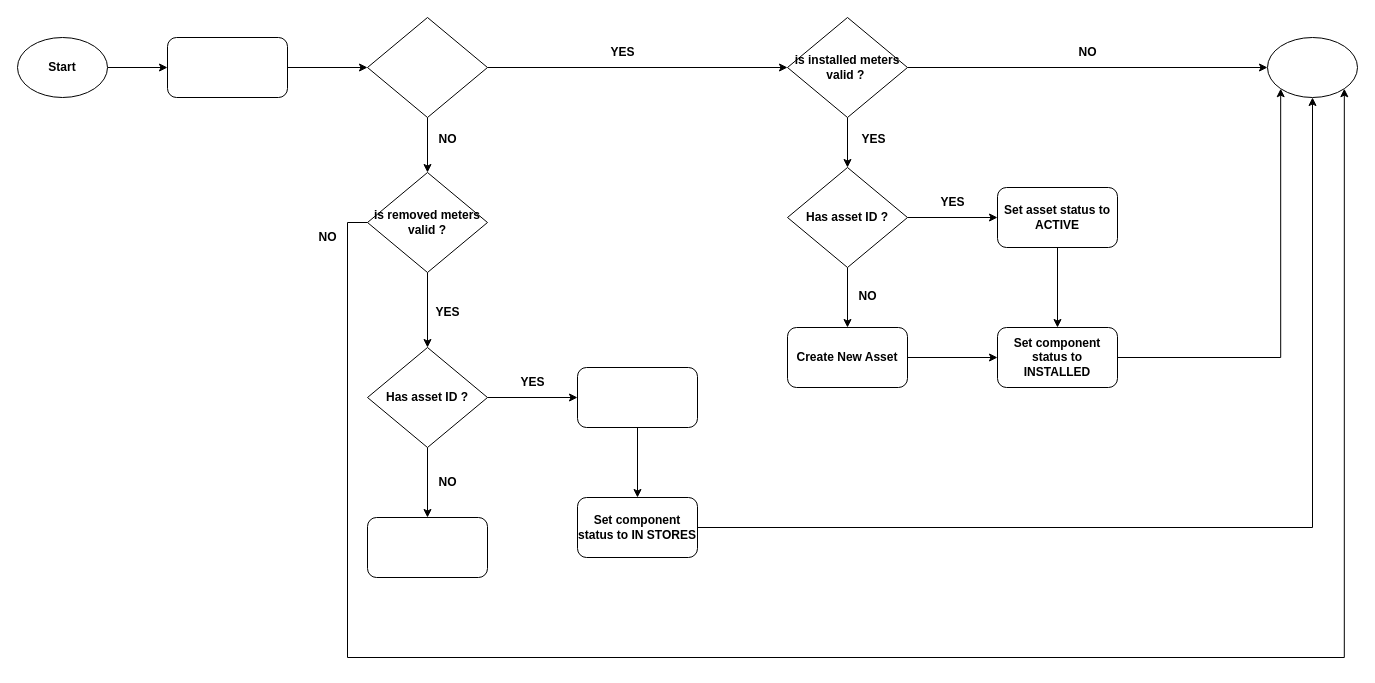
The diagram is 1375 pixels wide and 683 high, and some of its shapes have lost their labels. Here are the shapes that lost their labels. From the top down, the box of each, then its label:
(166, 36, 288, 98): Get install/remove meters in CCB
(366, 16, 488, 118): is meter installed ?
(1266, 36, 1358, 98): End
(576, 366, 698, 428): Set asset status to INACTIVE
(366, 516, 488, 578): to follow
